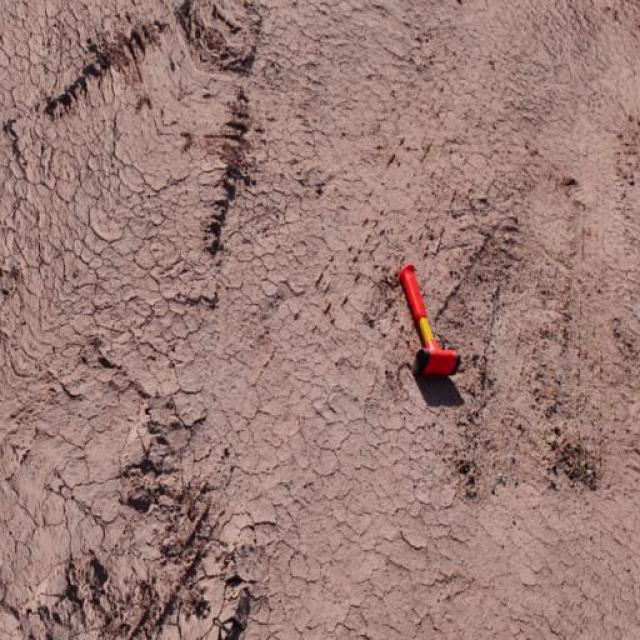mallet: (399, 262, 461, 378)
